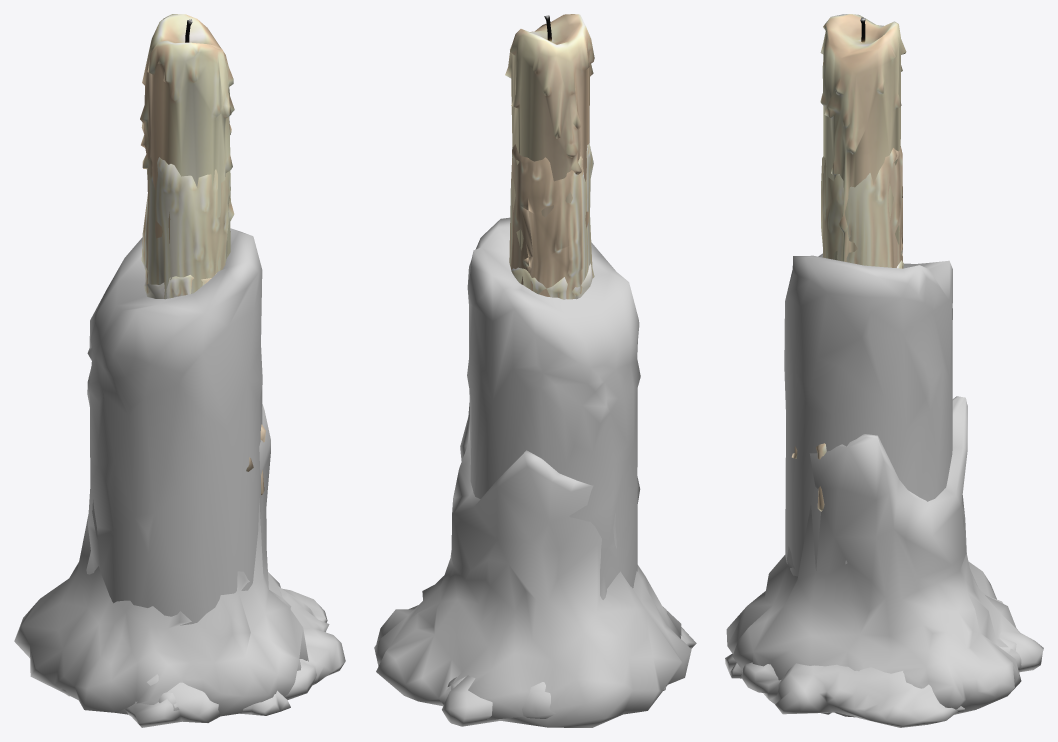
The model's file is candles.fbx.
3 renders of one model, left to right at view 1: azimuth 30°, elevation 25°; view 2: azimuth 150°, elevation 25°; view 3: azimuth 270°, elevation 25°, orthographic.
Parts seen in each view (by area): view 1: candleB_1_LOD0, candleB_2_LOD0, candleA_1_LOD0, candleA_2_LOD0, candleB_4_LOD0, candleB_3_LOD0, candleA_3_LOD0; view 2: candleB_2_LOD0, candleB_1_LOD0, candleA_1_LOD0, candleA_2_LOD0, candleB_3_LOD0, candleA_3_LOD0, candleB_4_LOD0; view 3: candleB_2_LOD0, candleB_1_LOD0, candleA_1_LOD0, candleB_4_LOD0, candleA_2_LOD0, candleB_3_LOD0.
Boxes of the visible parts, left/top/right/bottom form: candleB_1_LOD0: left=86, top=228, right=262, bottom=625; candleB_2_LOD0: left=14, top=404, right=308, bottom=716; candleA_1_LOD0: left=140, top=14, right=234, bottom=271; candleA_2_LOD0: left=141, top=157, right=230, bottom=299; candleB_4_LOD0: left=147, top=585, right=345, bottom=710; candleB_3_LOD0: left=60, top=682, right=290, bottom=727; candleA_3_LOD0: left=144, top=273, right=265, bottom=495; candleB_2_LOD0: left=374, top=403, right=691, bottom=727; candleB_1_LOD0: left=467, top=217, right=640, bottom=599; candleA_1_LOD0: left=505, top=14, right=594, bottom=250; candleA_2_LOD0: left=509, top=143, right=594, bottom=299; candleB_3_LOD0: left=442, top=627, right=696, bottom=726; candleA_3_LOD0: left=511, top=263, right=592, bottom=299; candleB_4_LOD0: left=447, top=608, right=666, bottom=718; candleB_2_LOD0: left=726, top=396, right=1021, bottom=717; candleB_1_LOD0: left=784, top=253, right=952, bottom=576; candleA_1_LOD0: left=820, top=14, right=906, bottom=261; candleB_4_LOD0: left=741, top=596, right=1016, bottom=727; candleA_2_LOD0: left=821, top=146, right=902, bottom=268; candleB_3_LOD0: left=725, top=630, right=1043, bottom=714.
Size of what is drawn, in the model's own units: 8.23 by 18.4 by 8.19.
